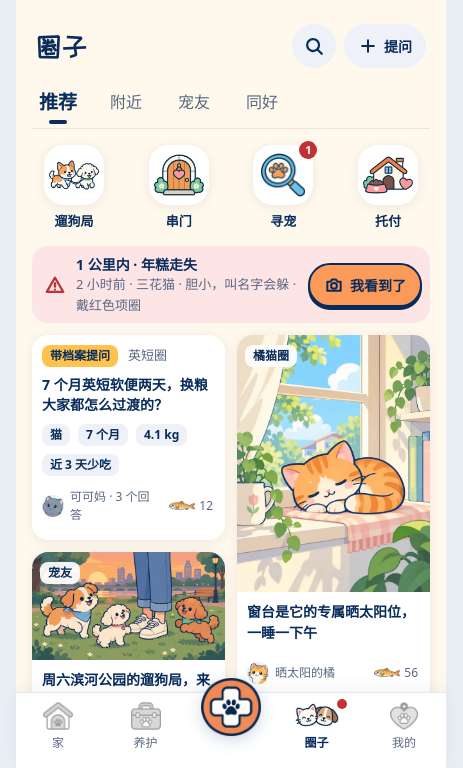
Test: 圈子 › 圈子默认进入推荐，Tab 里没有内部术语，同好可按圈筛选
expect the text "窗台是它的专属晒太阳位，一睡一下午" is shown: met, box [247,602,420,643]
Click the tab "同好" at (262, 106), box [240,84,284,128]
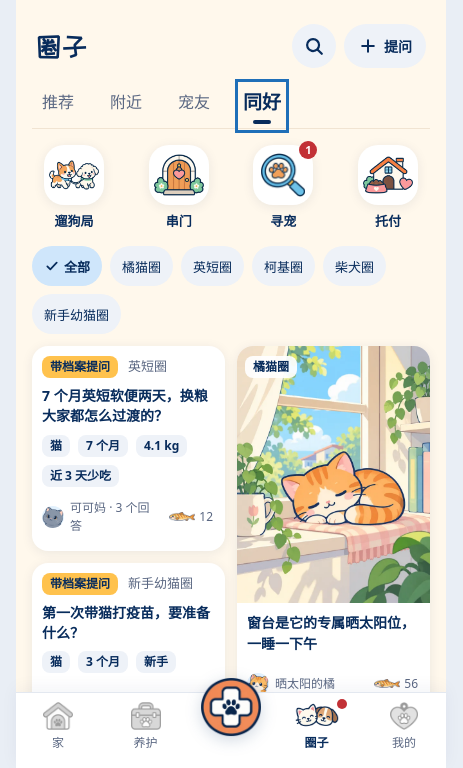
Click the button "新手幼猫圈" at (76, 314), box [32,294,121,334]
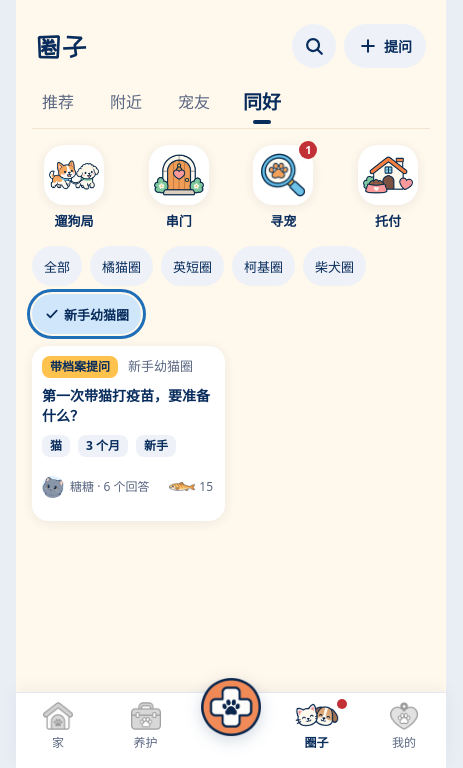
expect the text "第一次带猫打疫苗，要准备什么？" is shown: met, box [42,386,215,427]
expect the text "窗台是它的专属晒太阳位，一睡一下午" is gone: met
